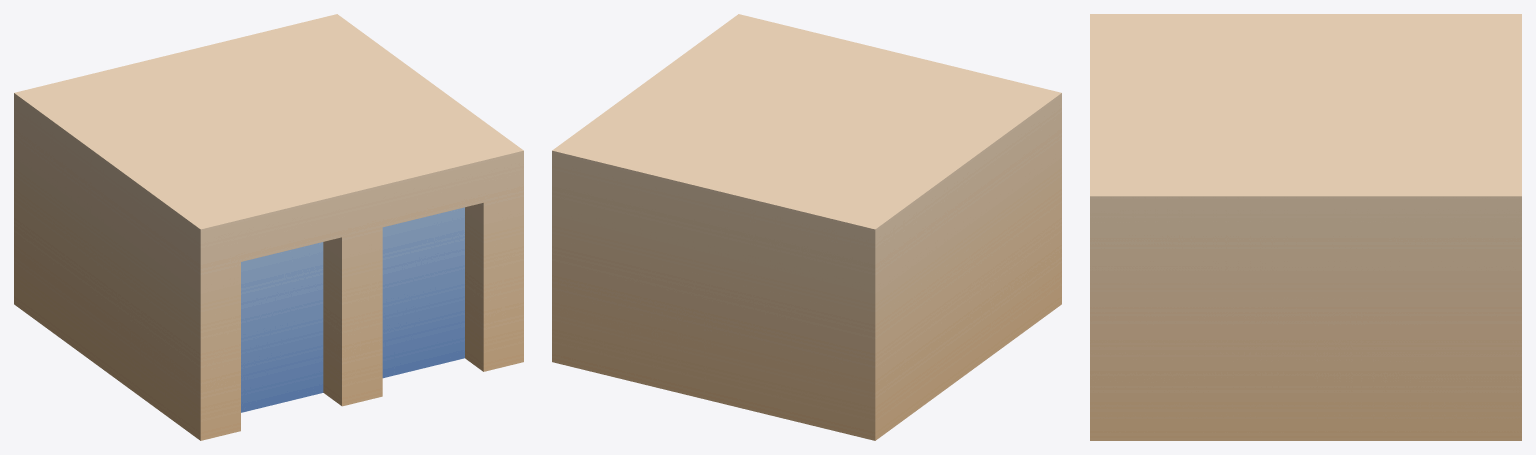
File: kp_ui_building_windows_high_top_square.glb
3 views of the same model, side by side, from view 1: azimuth 30°, elevation 25°; view 2: azimuth 150°, elevation 25°; view 3: azimuth 270°, elevation 25° (orthographic). The views are drawn at different scales.
Parts seen in each view (by area): view 1: building-windows-high-top-square; view 2: building-windows-high-top-square; view 3: building-windows-high-top-square.
Boxes of the visible parts, left/top/right/bottom form: building-windows-high-top-square: left=14, top=14, right=523, bottom=440; building-windows-high-top-square: left=552, top=14, right=1061, bottom=440; building-windows-high-top-square: left=1090, top=14, right=1521, bottom=440.
Size of the model in its own units: 1 by 0.625 by 1.
Materials: 1 (1 with a texture image).
